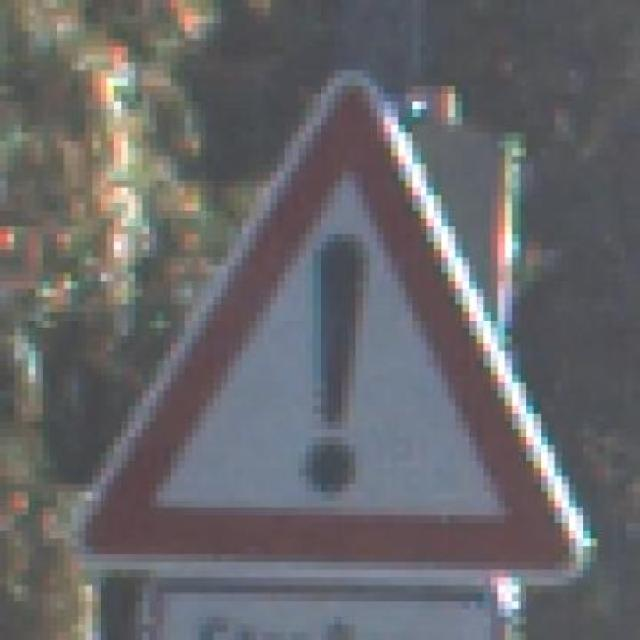Attention Please-: (42, 54, 598, 608)
